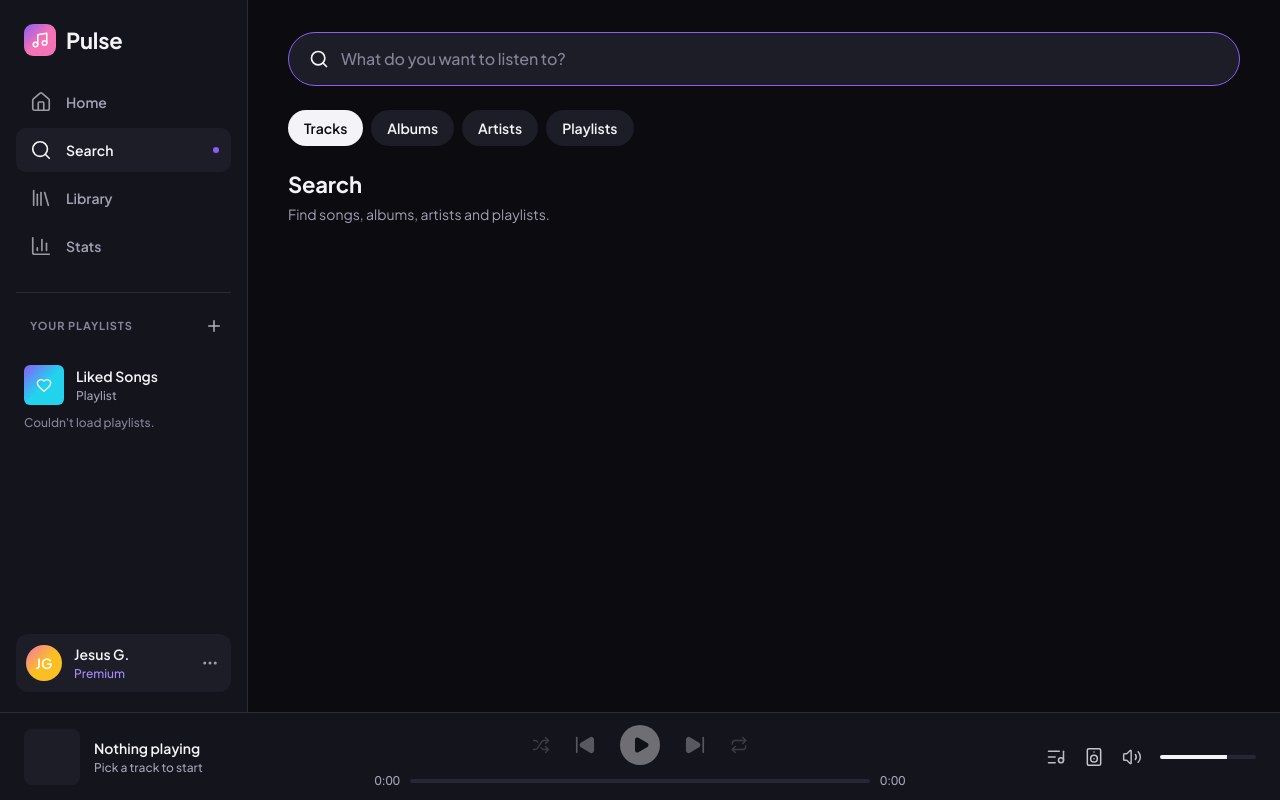
Test: SearchPage › debounces typing, syncs ?q= and shows top result, songs and albums
Type "neon" into the search field named "Search Spotify" at (780, 59), box 341,47 -> 1219,71
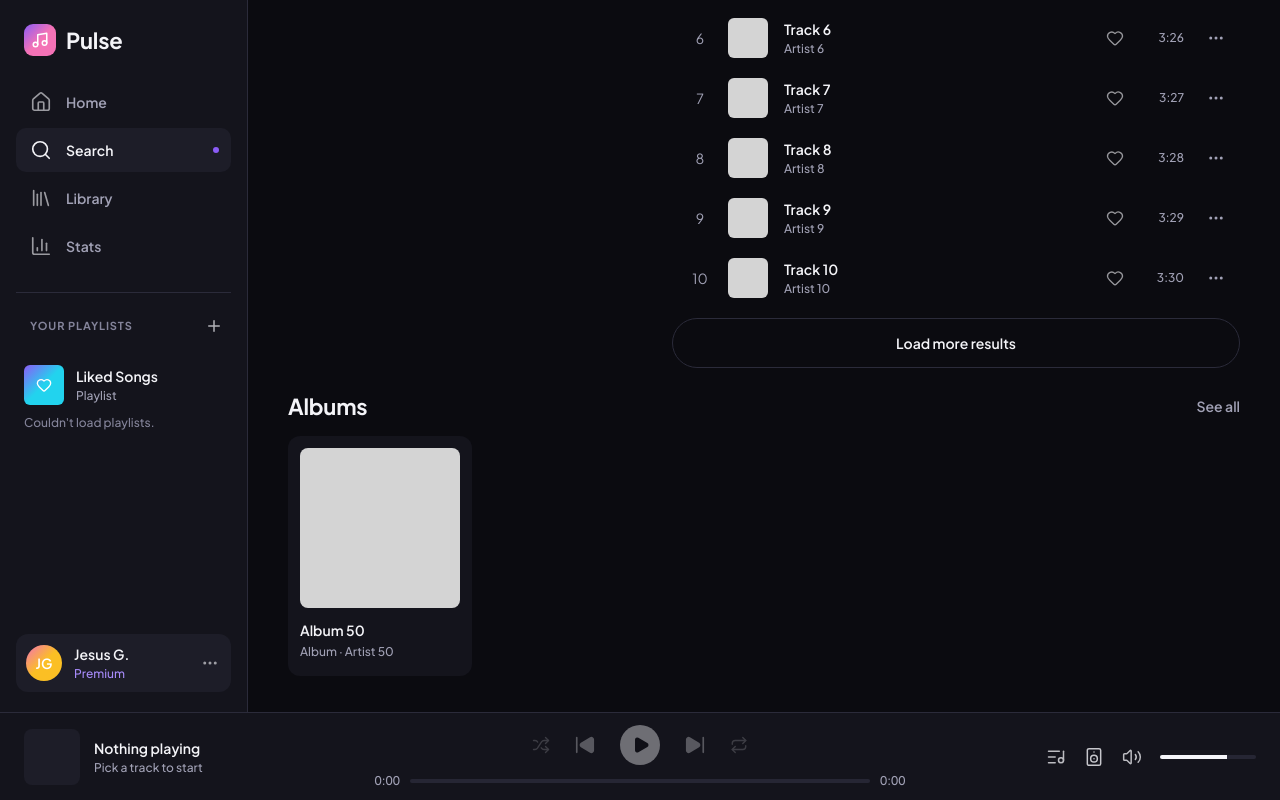
Expected: the element "Albums" shows "Album 50", 300,620 -> 460,640
